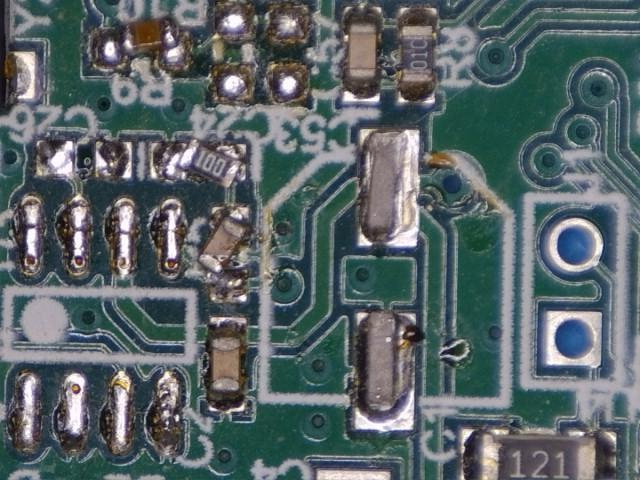pcb_defect: (86, 14, 189, 76), (196, 205, 254, 304), (153, 136, 249, 190)
